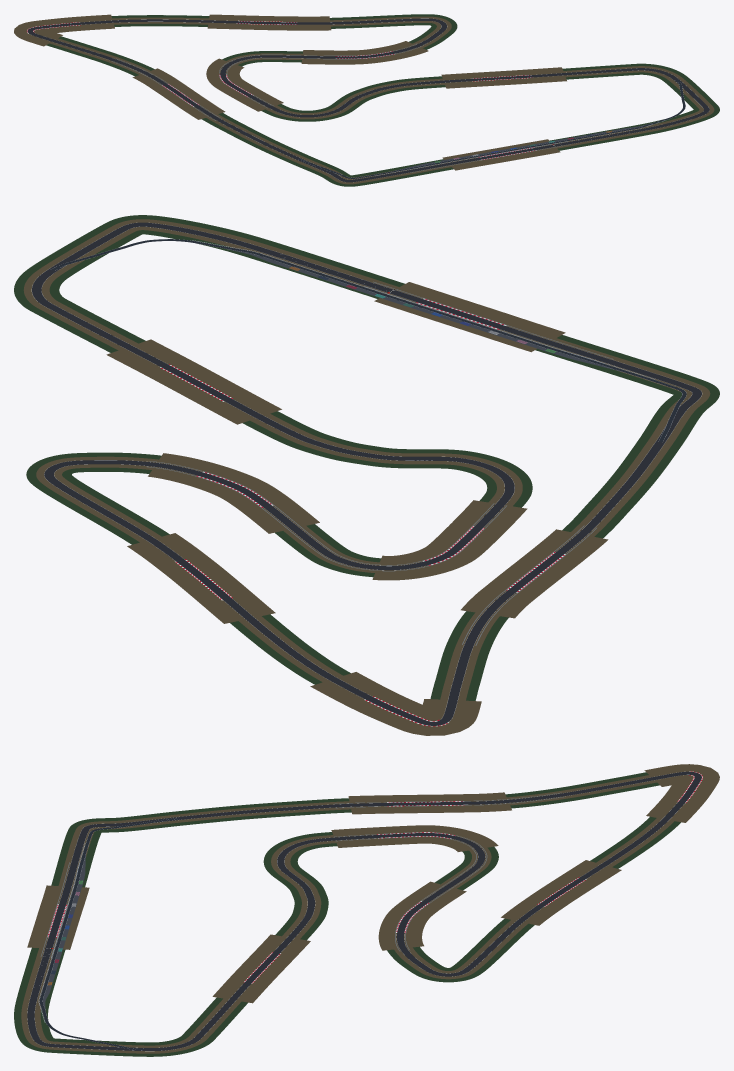
Rendered from spielberg.glb.
The picture shows the model from 3 angles, top to bottom: view 1: azimuth 30°, elevation 25°; view 2: azimuth 150°, elevation 25°; view 3: azimuth 270°, elevation 25°; orthographic projection. The views are drawn at different scales.
Visible parts, largest first — view 1: spielberg_02_5a4f3a, spielberg_00_29412a, spielberg_01_5a4f3a, spielberg_05_272b35, spielberg_06_747e87, spielberg_09_242c38, spielberg_08_404753, spielberg_03_d90429, spielberg_04_ffffff, spielberg_07_ffffff; view 2: spielberg_02_5a4f3a, spielberg_00_29412a, spielberg_01_5a4f3a, spielberg_05_272b35, spielberg_09_242c38, spielberg_06_747e87, spielberg_07_ffffff, spielberg_08_404753, spielberg_04_ffffff, spielberg_03_d90429; view 3: spielberg_02_5a4f3a, spielberg_00_29412a, spielberg_01_5a4f3a, spielberg_05_272b35, spielberg_06_747e87, spielberg_09_242c38, spielberg_07_ffffff, spielberg_08_404753, spielberg_03_d90429, spielberg_04_ffffff.
Part boxes in pixels (<box>): spielberg_02_5a4f3a: <box>14,14,566,170</box>; spielberg_00_29412a: <box>46,14,719,186</box>; spielberg_01_5a4f3a: <box>49,16,714,184</box>; spielberg_05_272b35: <box>27,18,709,182</box>; spielberg_06_747e87: <box>111,43,569,172</box>; spielberg_09_242c38: <box>298,80,685,178</box>; spielberg_08_404753: <box>394,123,650,170</box>; spielberg_03_d90429: <box>27,21,534,159</box>; spielberg_04_ffffff: <box>27,20,536,159</box>; spielberg_07_ffffff: <box>27,18,708,182</box>; spielberg_02_5a4f3a: <box>106,282,608,735</box>; spielberg_00_29412a: <box>14,215,719,700</box>; spielberg_01_5a4f3a: <box>23,219,710,700</box>; spielberg_05_272b35: <box>32,222,701,725</box>; spielberg_09_242c38: <box>51,239,686,442</box>; spielberg_06_747e87: <box>146,281,613,645</box>; spielberg_07_ffffff: <box>31,222,702,725</box>; spielberg_08_404753: <box>225,248,621,371</box>; spielberg_04_ffffff: <box>160,298,565,726</box>; spielberg_03_d90429: <box>161,299,564,726</box>; spielberg_02_5a4f3a: <box>27,764,719,1003</box>; spielberg_00_29412a: <box>14,772,680,1056</box>; spielberg_01_5a4f3a: <box>21,775,674,1053</box>; spielberg_05_272b35: <box>27,771,701,1050</box>; spielberg_06_747e87: <box>40,792,564,957</box>; spielberg_09_242c38: <box>39,818,179,1050</box>; spielberg_07_ffffff: <box>27,771,701,1051</box>; spielberg_08_404753: <box>43,855,85,1010</box>; spielberg_03_d90429: <box>48,771,702,983</box>; spielberg_04_ffffff: <box>47,771,702,983</box>.
Bounding box in the file's own units: 1038 × 0.33 × 1058.
